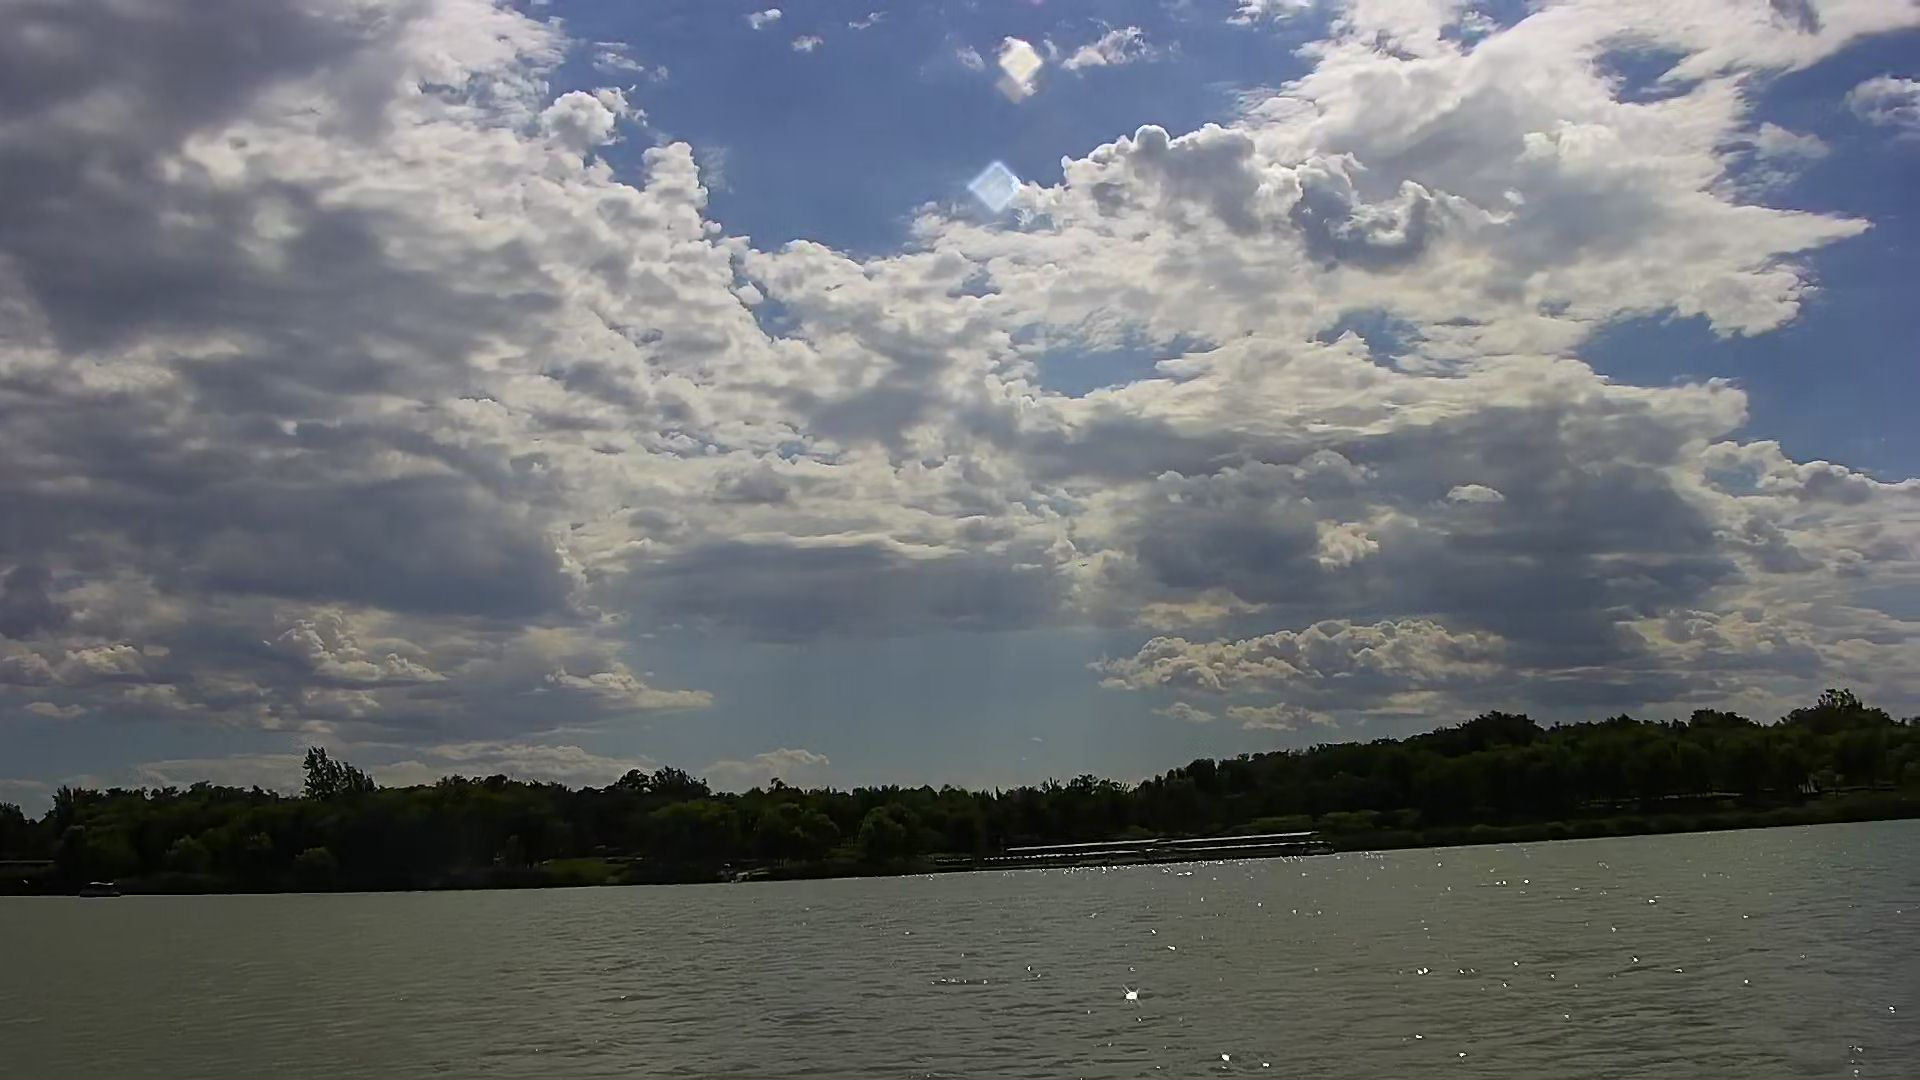harbor: (993, 827, 1335, 870)
